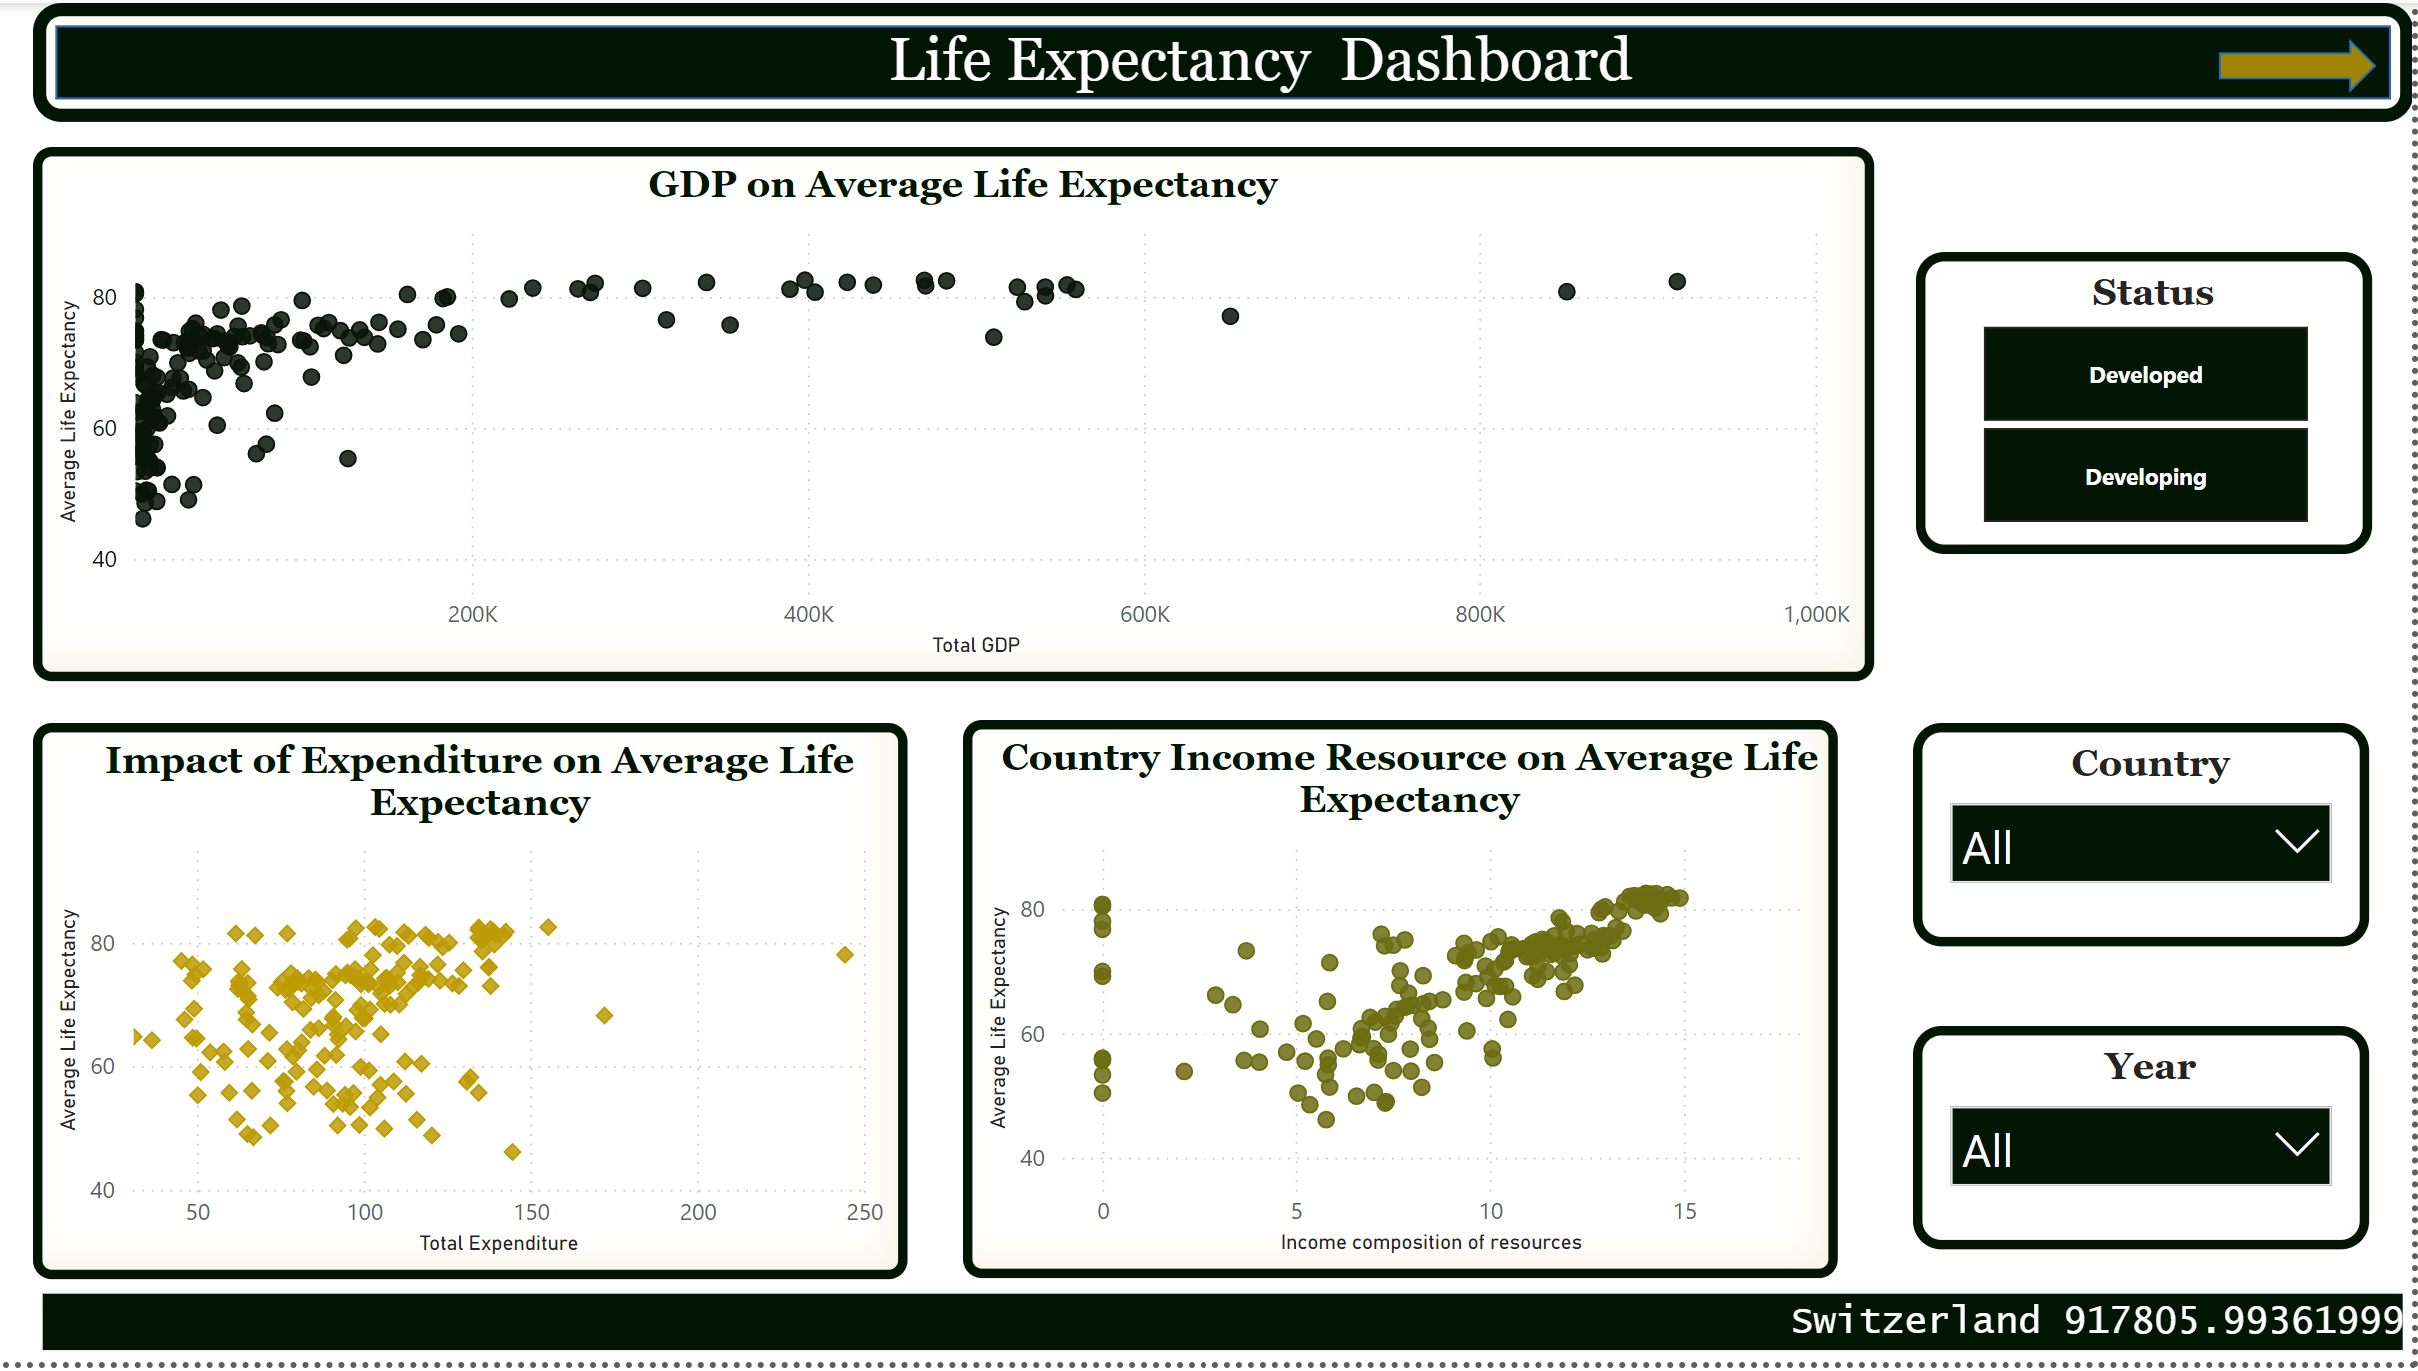

This screenshot's page, from the dashboard's own definition file:
{"tool":"powerbi","page":{"name":"Economic Factors","canvas":[1280,720],"ordinal":3},"visuals":[{"type":"shape","box":[18.3,0,1261.7,63],"z":0},{"type":"textbox","box":[363.7,6.1,611.6,56.9],"z":1000},{"type":"scatterChart","title":"GDP on  Average Life Expectancy","fields":{"Category":["Life Expentency.Country"],"X":["Life Expectancy Measures.Total GDP"],"Y":["Life Expectancy Measures.Average Life Expectancy"]},"box":[19.1,76.3,975.9,282.9],"z":2000},{"type":"ScrollingTextVisual1448795304508","fields":{"Category":["Life Expentency.Country"],"Measure Absolute":["Sum(Life Expentency.GDP)"]},"box":[18.3,678.6,1261.7,40.6],"z":3000},{"type":"scatterChart","title":"Impact of  Expenditure on Average Life Expectancy ","fields":{"Category":["Life Expentency.Country"],"X":["Life Expectancy Measures.Total Expenditure"],"Y":["Life Expectancy Measures.Average Life Expectancy"]},"box":[18.3,382,463.2,294.6],"z":4000},{"type":"scatterChart","title":"Country Income Resource on Average Life Expectancy ","fields":{"Category":["Life Expentency.Country"],"X":["Sum(Life Expentency.Income composition of resources)"],"Y":["Life Expectancy Measures.Average Life Expectancy"]},"box":[511.8,379.9,464.1,295.6],"z":5000},{"type":"slicer","title":"Country","fields":{"Values":["Life Expentency.Country"]},"box":[1015,381.7,241.7,118.3],"z":6000},{"type":"slicer","title":"Year","fields":{"Values":["Life Expentency.Year"]},"box":[1015,541.7,241.7,118.3],"z":7000},{"type":"slicer","title":"Status","fields":{"Values":["Life Expentency.Status"]},"box":[1016.7,131.7,241.7,160],"z":8000},{"type":"shape","box":[1178.4,18.3,83.3,28.4],"z":9000}]}

Visuals, with their boxes in screenshot pixels (x1, y1, x2, y2), scaled from the page's 1280x720 canvas onto the 2418x1371 screenshot:
shape: region(35, 0, 2417, 120)
textbox: region(687, 12, 1842, 120)
"GDP on  Average Life Expectancy" scatterChart: region(36, 145, 1880, 684)
ScrollingTextVisual1448795304508 - Life Expentency.Country x Sum(Life Expentency.GDP): region(35, 1292, 2417, 1369)
"Impact of  Expenditure on Average Life Expectancy " scatterChart: region(35, 727, 910, 1288)
"Country Income Resource on Average Life Expectancy " scatterChart: region(967, 723, 1844, 1286)
"Country" slicer: region(1917, 727, 2374, 952)
"Year" slicer: region(1917, 1031, 2374, 1257)
"Status" slicer: region(1921, 251, 2377, 555)
shape: region(2226, 35, 2383, 89)
